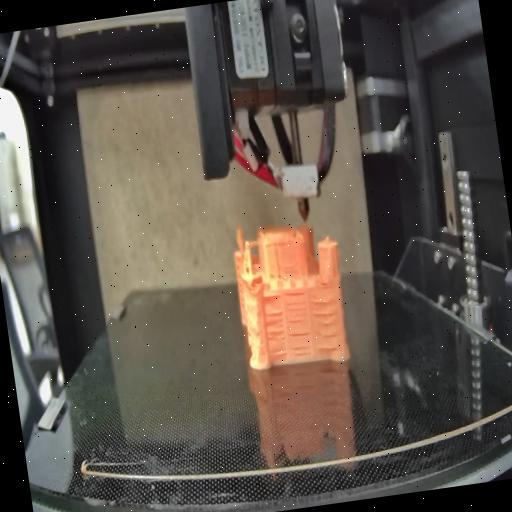cracks: (308, 298, 342, 352), (262, 308, 289, 357), (284, 288, 310, 324), (288, 324, 314, 356), (266, 238, 288, 252), (262, 290, 282, 303), (318, 275, 332, 290)
